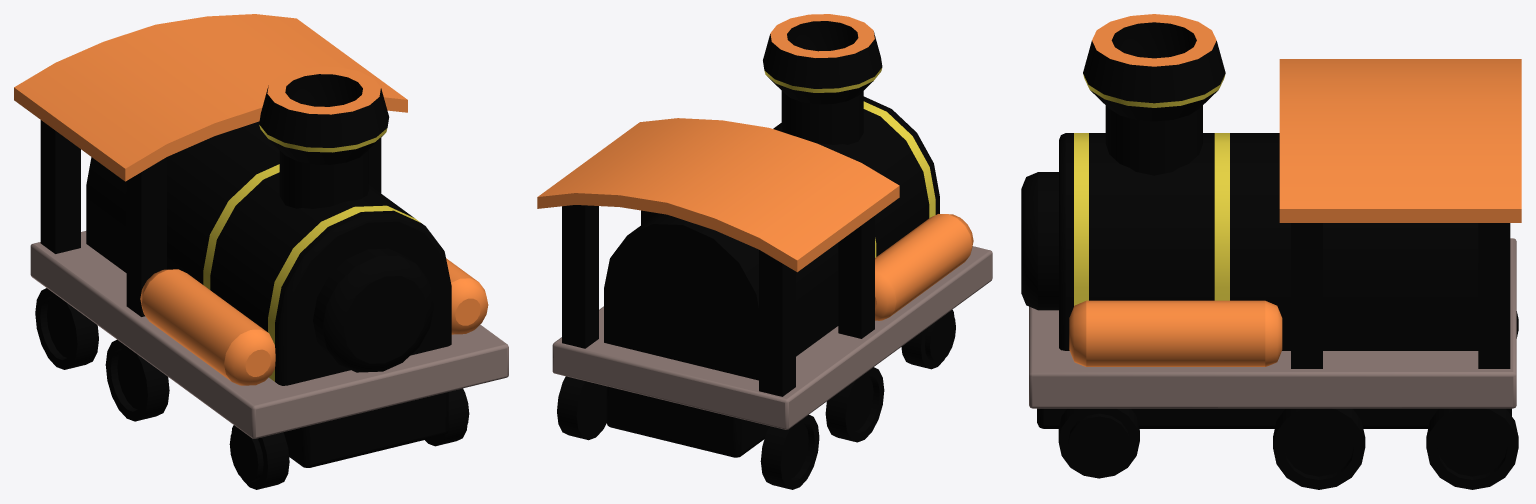
The model's file is Train-Head.fbx.
3 renders of one model, left to right at view 1: azimuth 30°, elevation 25°; view 2: azimuth 150°, elevation 25°; view 3: azimuth 270°, elevation 25°, orthographic. The views are drawn at different scales.
Parts seen in each view (by area): view 1: Train-Head; view 2: Train-Head; view 3: Train-Head.
Boxes of the visible parts, <box> form: Train-Head: <box>14,14,508,489</box>; Train-Head: <box>537,14,992,489</box>; Train-Head: <box>1021,14,1521,489</box>.
Bounding box in the file's own units: 0.8285 × 0.9912 × 1.17.
